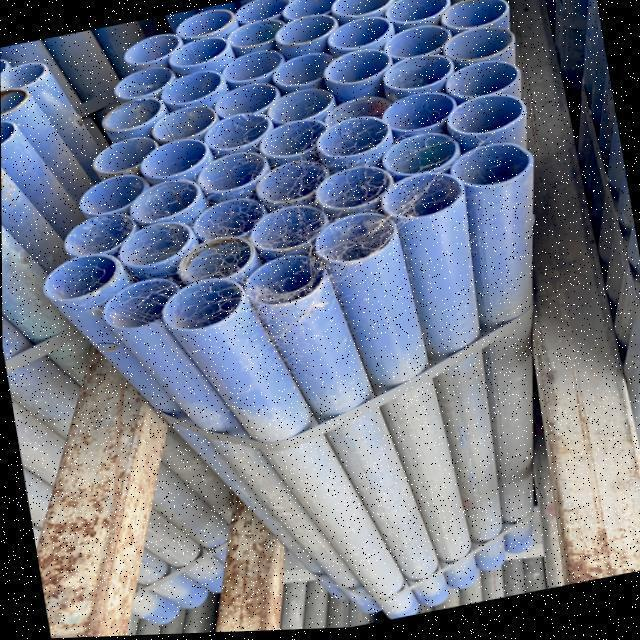pipe: (242, 250, 328, 307), (317, 212, 399, 265), (162, 277, 244, 330), (253, 155, 332, 209), (102, 277, 182, 329), (75, 171, 161, 219), (384, 172, 464, 222), (196, 147, 267, 203), (246, 205, 326, 254), (189, 200, 276, 245), (62, 209, 141, 258), (176, 233, 254, 282), (447, 146, 531, 191), (382, 129, 459, 178), (43, 252, 118, 302), (380, 93, 458, 141), (117, 219, 191, 269), (317, 165, 393, 213), (443, 97, 526, 140), (436, 61, 519, 104), (89, 135, 168, 180), (127, 179, 203, 225), (317, 118, 391, 164), (258, 121, 329, 168), (140, 136, 212, 182), (269, 52, 348, 92), (375, 27, 460, 63), (203, 114, 274, 157), (263, 86, 336, 127), (382, 57, 460, 95), (111, 58, 178, 102), (150, 102, 221, 143), (208, 83, 286, 119), (102, 96, 167, 138), (223, 49, 287, 91), (443, 23, 508, 63), (274, 15, 345, 51), (326, 49, 393, 87), (434, 0, 504, 36), (160, 69, 224, 108), (229, 14, 289, 52), (167, 37, 230, 72), (331, 17, 392, 53), (320, 99, 394, 128), (124, 31, 184, 66), (175, 7, 239, 39), (388, 0, 452, 30), (0, 59, 47, 88), (288, 0, 344, 23), (335, 0, 398, 20), (240, 0, 290, 23), (1, 86, 30, 116)
